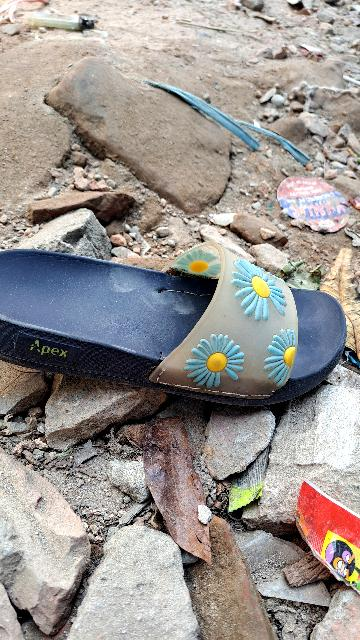sandal: (0, 223, 353, 401)
